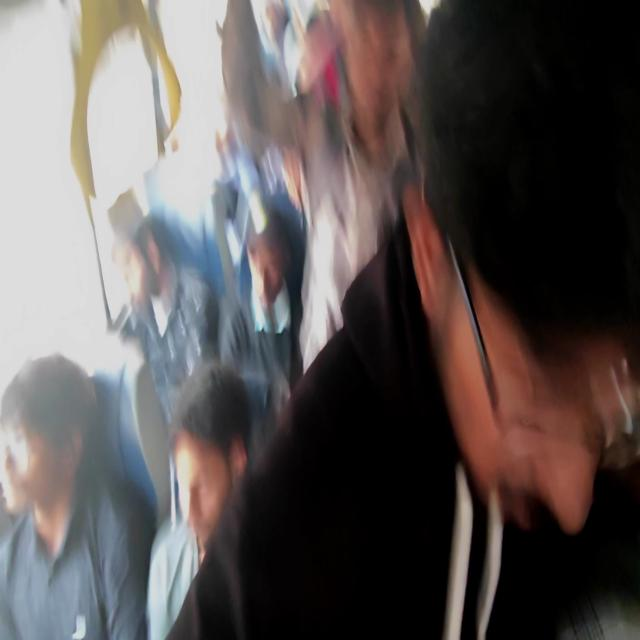person: (416, 6, 640, 640), (175, 402, 316, 635), (27, 349, 145, 554), (312, 8, 423, 174), (96, 211, 185, 325), (233, 224, 301, 347), (286, 20, 334, 110), (216, 68, 254, 175), (256, 3, 276, 44)
